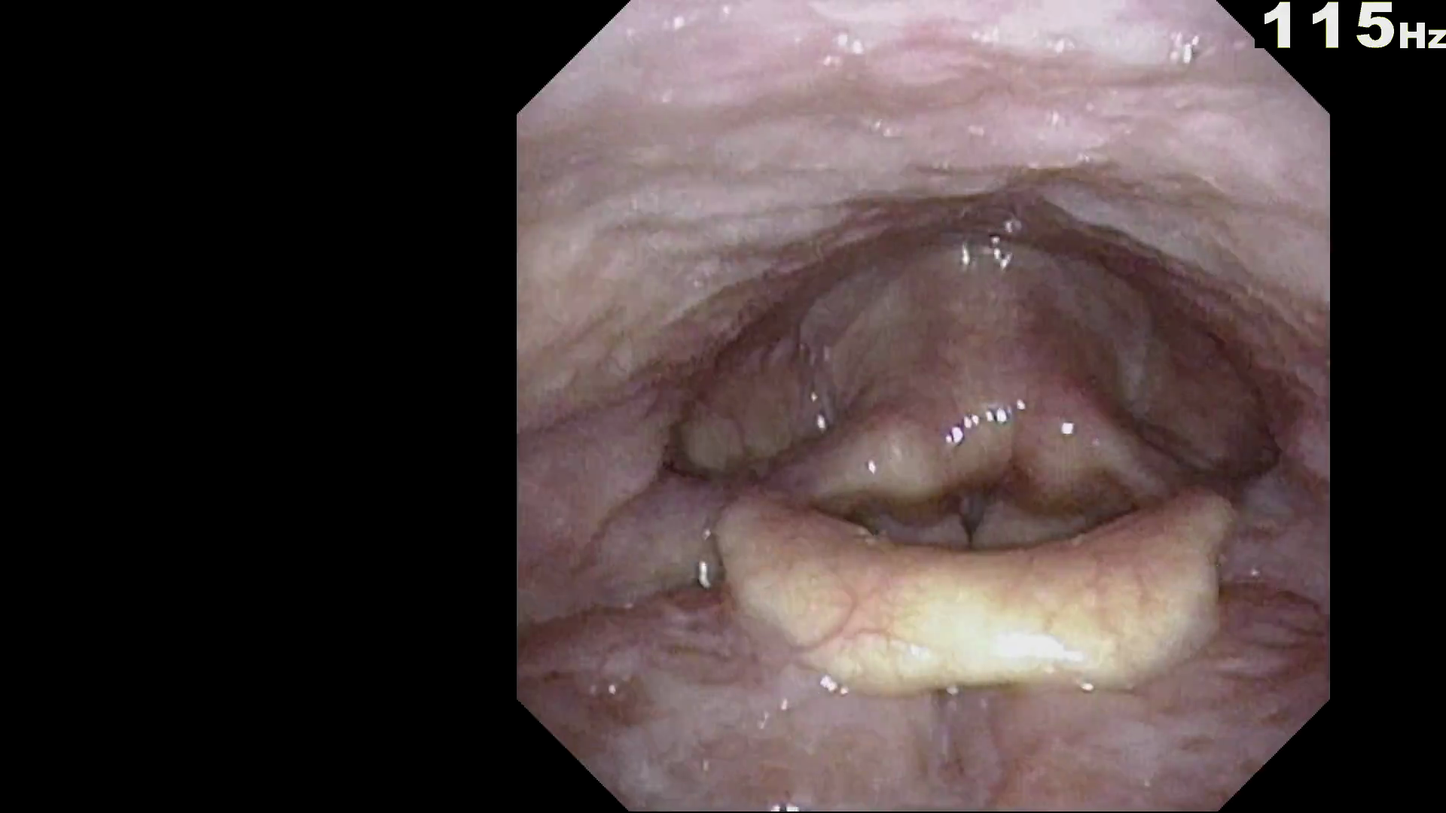epiglottis: (692, 509, 1254, 724)
trachea: (922, 465, 1017, 568)
